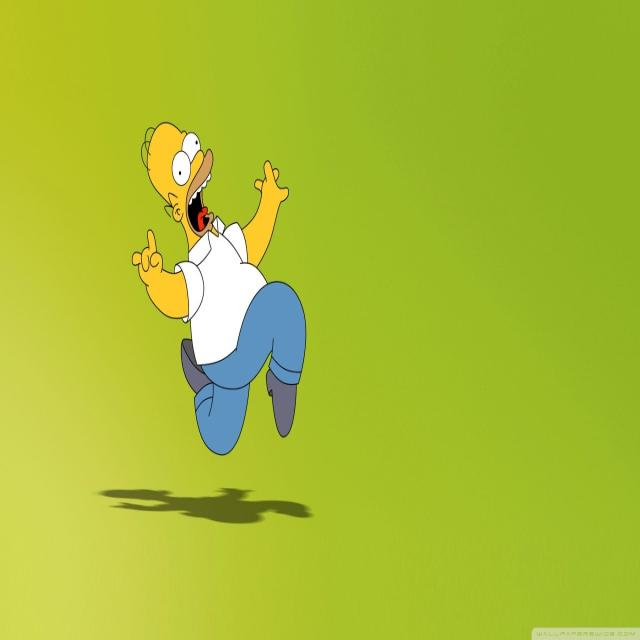Homer Simpson: (139, 118, 216, 257)
